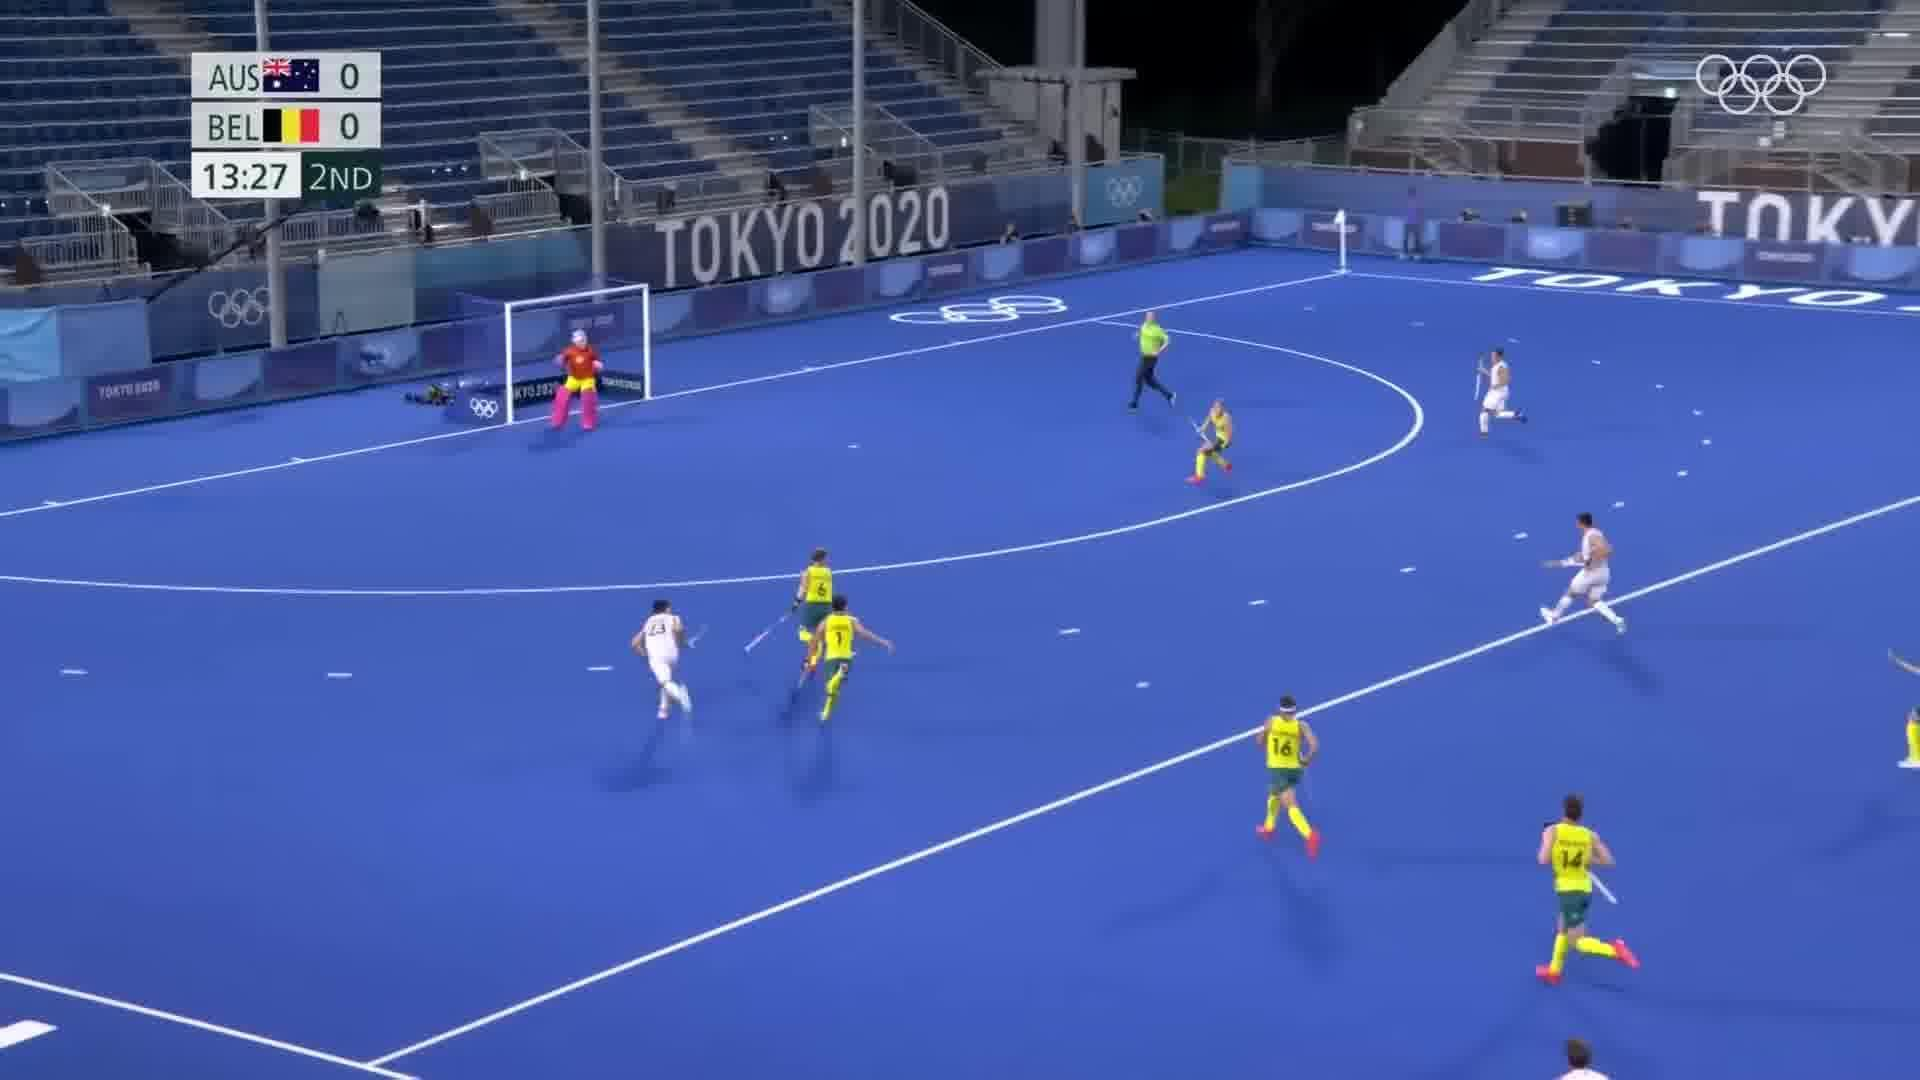ball: (1130, 671, 1153, 692)
